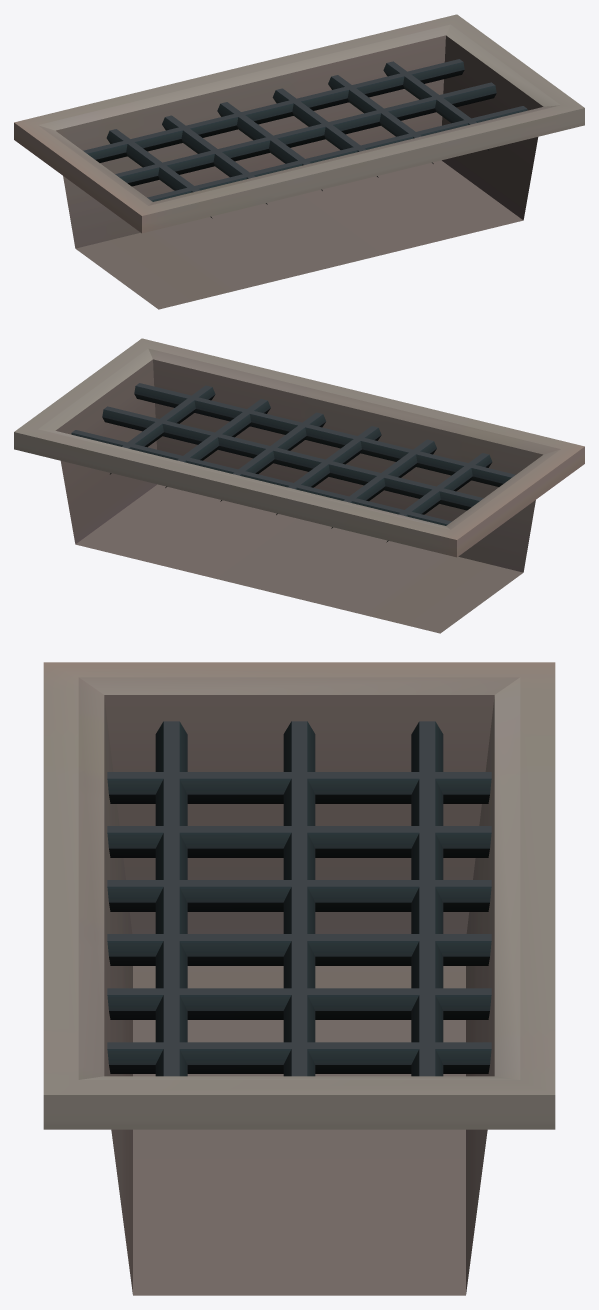
The model's file is floor_tile_grate.glb.
3 views of the same model, one above another, from view 1: azimuth 30°, elevation 25°; view 2: azimuth 150°, elevation 25°; view 3: azimuth 270°, elevation 25° (orthographic). The views are drawn at different scales.
Visible parts, largest first — view 1: floor_tile_grate; view 2: floor_tile_grate; view 3: floor_tile_grate.
Part boxes in pixels (x1,y1,x2,y2): floor_tile_grate: (14, 14, 584, 309); floor_tile_grate: (14, 338, 584, 633); floor_tile_grate: (43, 662, 555, 1295).
Size of the model in its own units: 4 by 1.03 by 2.
1 material, 1 textured.
